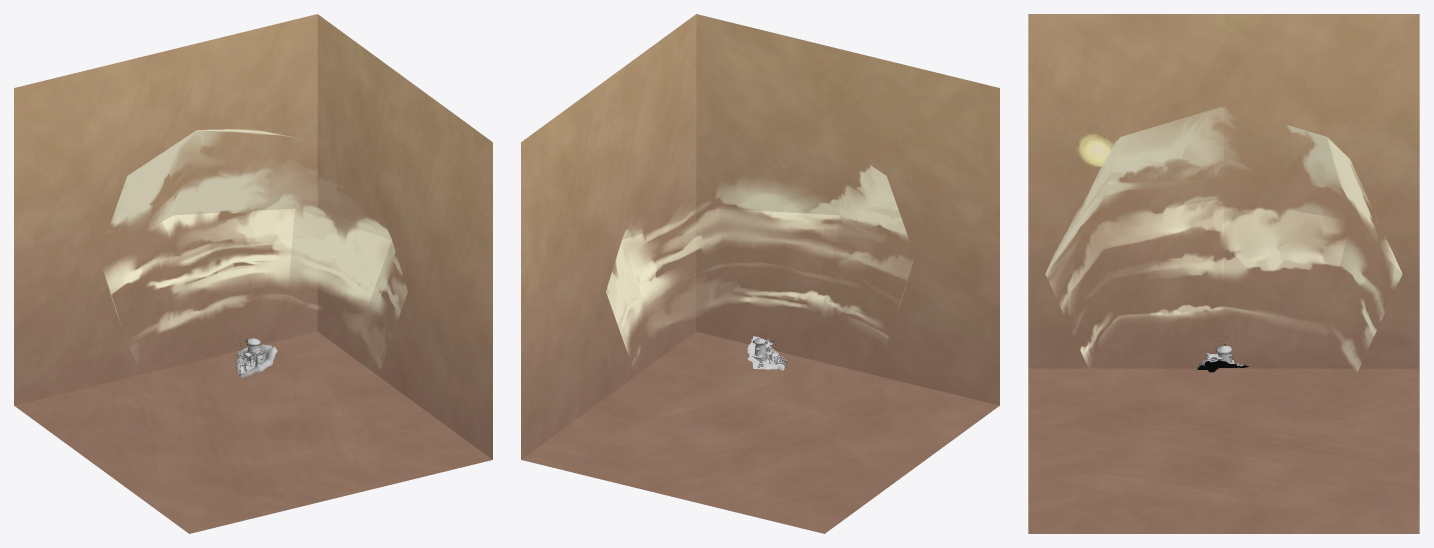
3 renders of one model, left to right at view 1: azimuth 30°, elevation 25°; view 2: azimuth 150°, elevation 25°; view 3: azimuth 270°, elevation 25°, orthographic. The views are drawn at different scales.
Parts seen in each view (by area): view 1: skybox, clouds, wm; view 2: skybox, clouds, wm; view 3: skybox, clouds.
Part boxes in pixels (x1,y1,x2,y2): skybox: (14,14,492,533); clouds: (103,129,407,368); wm: (229,333,277,377); skybox: (521,14,999,533); clouds: (606,165,912,364); wm: (747,336,787,370); skybox: (1028,14,1419,533); clouds: (1045,107,1402,371).
Bounding box in the file's own units: 66.34 × 66.34 × 66.34.
